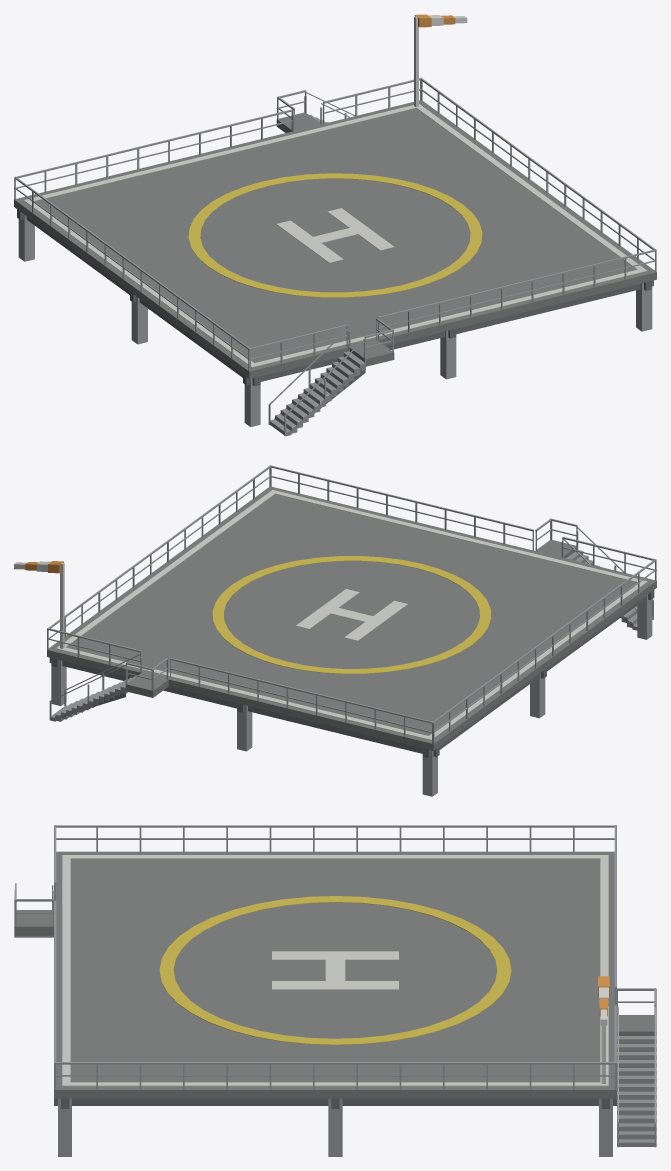
File: helideck.zfix-v2.lod1.glb
3 views of the same model, one above another, from view 1: azimuth 30°, elevation 25°; view 2: azimuth 150°, elevation 25°; view 3: azimuth 270°, elevation 25° (orthographic). The views are drawn at different scales.
Parts seen in each view (by area): view 1: helideck; view 2: helideck; view 3: helideck.
Boxes of the visible parts, x1,y1,x2,y2 form: helideck: (14,14,656,436); helideck: (14,465,656,796); helideck: (14,825,656,1156).
Bounding box in the file's own units: 21.92 × 6.92 × 22.83.
